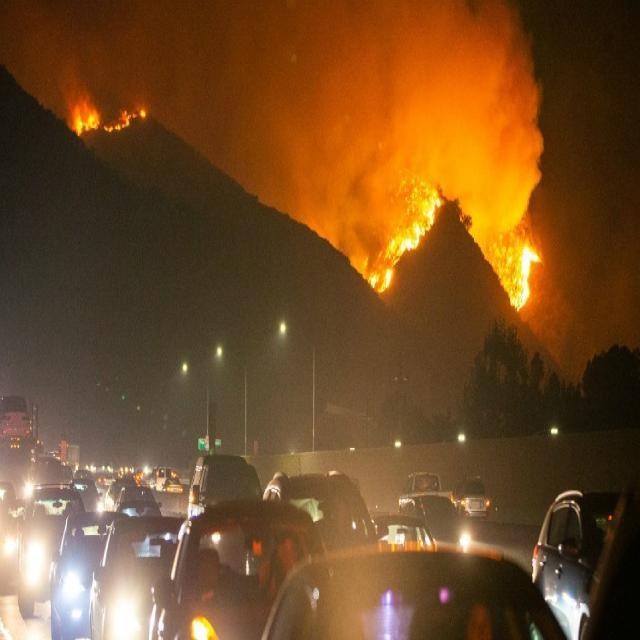Fire: (484, 214, 541, 304), (394, 178, 440, 232), (369, 229, 402, 293), (68, 106, 100, 134)
